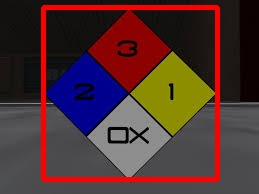nfpa: (43, 7, 217, 179)
